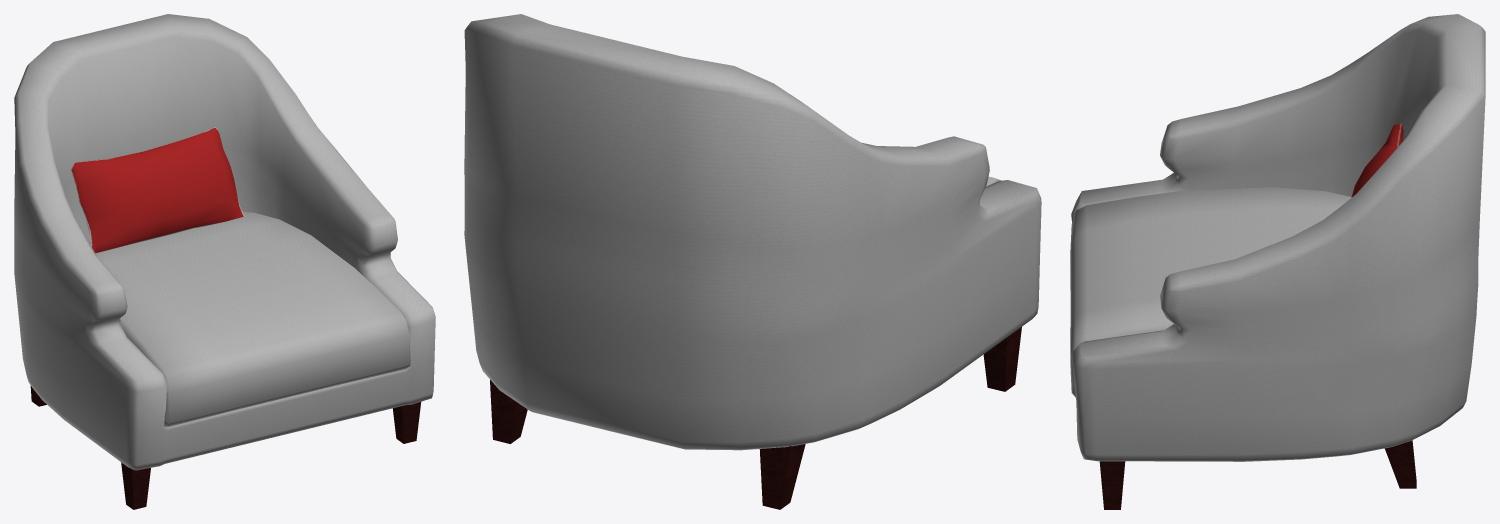
The model's file is RY_Chair03.fbx.
The picture shows the model from 3 angles, left to right: view 1: azimuth 30°, elevation 25°; view 2: azimuth 150°, elevation 25°; view 3: azimuth 270°, elevation 25°; orthographic projection. The views are drawn at different scales.
Visible parts, largest first — view 1: RoyalChair; view 2: RoyalChair; view 3: RoyalChair.
Part boxes in pixels (x1,y1,x2,y2): RoyalChair: [14, 14, 435, 509]; RoyalChair: [464, 14, 1041, 509]; RoyalChair: [1070, 14, 1485, 509].
Size of the model in its own units: 0.3088 by 0.3133 by 0.3153.
